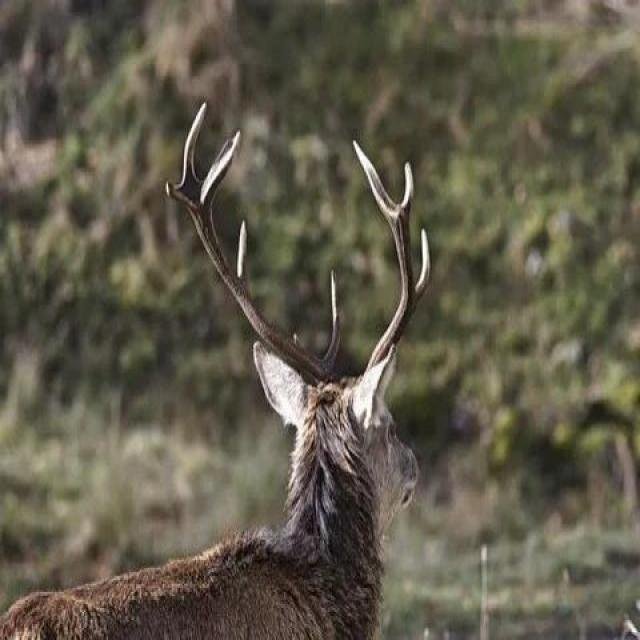deer: (41, 134, 527, 640)
